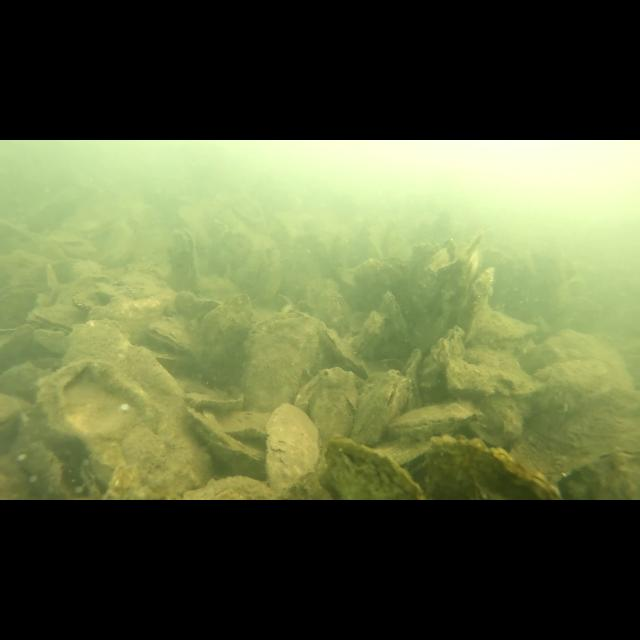Oyster-Closed: (34, 360, 186, 500), (63, 319, 185, 429), (398, 434, 556, 500), (242, 308, 328, 412), (323, 438, 422, 500), (293, 364, 369, 444), (199, 292, 255, 392), (267, 402, 321, 490), (186, 408, 264, 464), (556, 450, 640, 500), (532, 361, 612, 411), (389, 401, 478, 439), (379, 291, 408, 357), (353, 308, 385, 356), (216, 411, 270, 439), (314, 290, 344, 336)
Oyster-Open: (445, 250, 493, 346), (355, 368, 409, 448), (419, 327, 465, 398), (165, 226, 202, 294), (478, 310, 536, 352), (320, 329, 368, 378), (374, 438, 432, 478), (29, 306, 82, 336), (145, 320, 191, 350), (1, 280, 42, 304), (402, 348, 422, 388)
